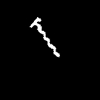half_double_crochet: (30, 17, 59, 56)
